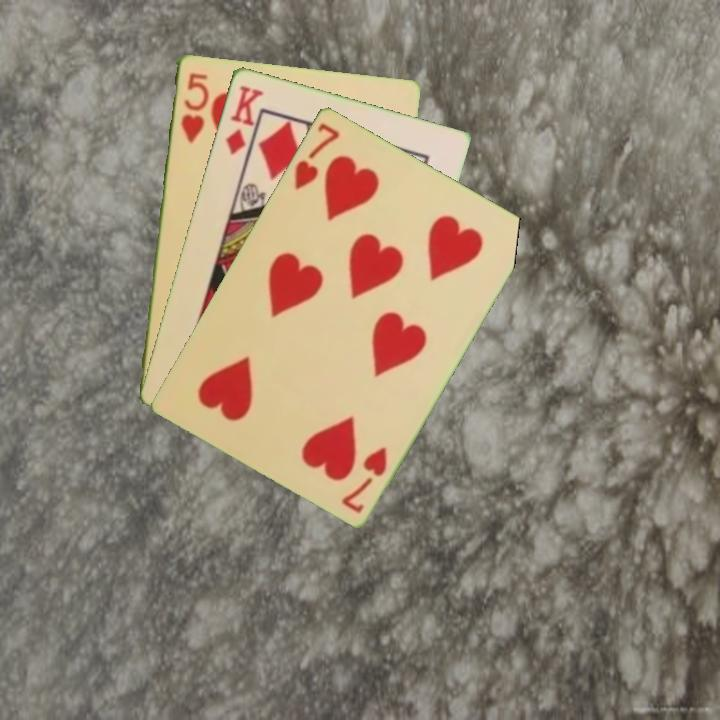5h: (177, 68, 210, 146)
7h: (290, 118, 343, 192), (338, 442, 390, 516)
Kd: (221, 81, 266, 158)
